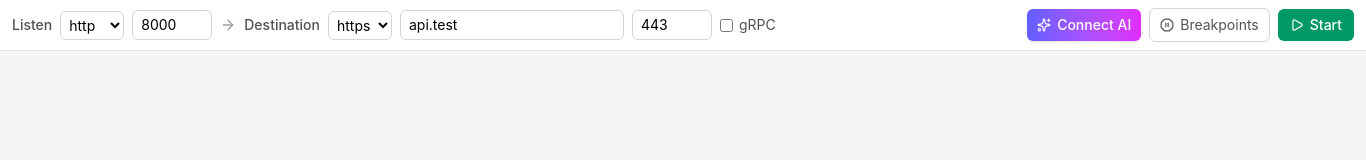
Test: SettingsBar › marks listen port abc invalid, does not persist it, and disables Start
Replace the text in the field named "Listen port" with "abc" at [172, 25], box [132,10,212,40]
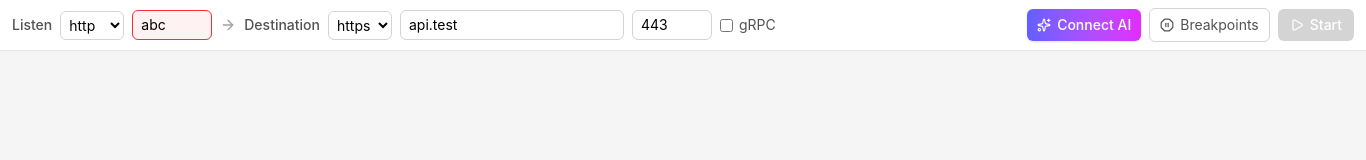
Now the button "Start" is disabled, box [1278,9,1354,41]
